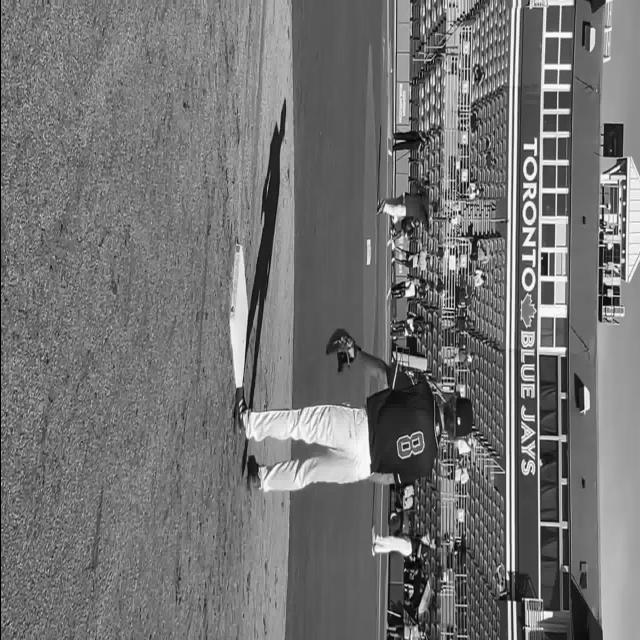base: (229, 244, 248, 387)
baseball_glove: (325, 329, 356, 373)
shoe: (232, 387, 246, 436), (246, 456, 260, 491)
